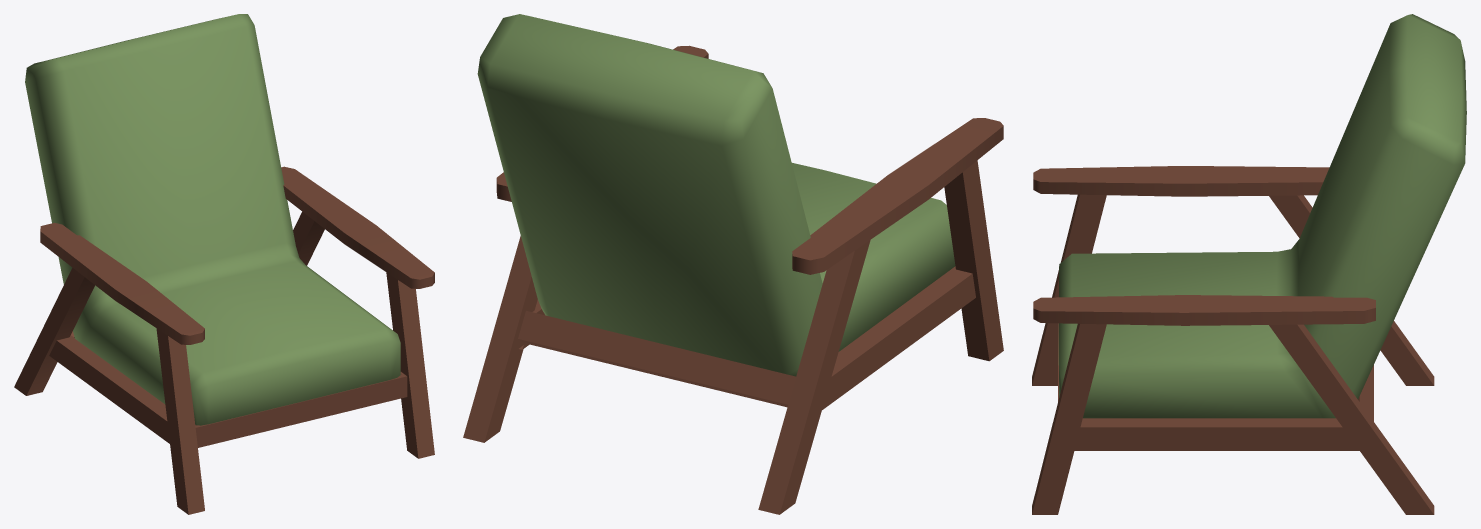
File: Sofa_02_Single.fbx
The picture shows the model from 3 angles, left to right: view 1: azimuth 30°, elevation 25°; view 2: azimuth 150°, elevation 25°; view 3: azimuth 270°, elevation 25°; orthographic projection. The views are drawn at different scales.
Parts seen in each view (by area): view 1: Sofa_02_Single; view 2: Sofa_02_Single; view 3: Sofa_02_Single.
Part boxes in pixels (x1,y1,x2,y2): Sofa_02_Single: (14, 14, 434, 514); Sofa_02_Single: (463, 14, 1003, 514); Sofa_02_Single: (1032, 14, 1466, 514).
Bounding box in the file's own units: 0.7662 × 0.9242 × 0.9575.
